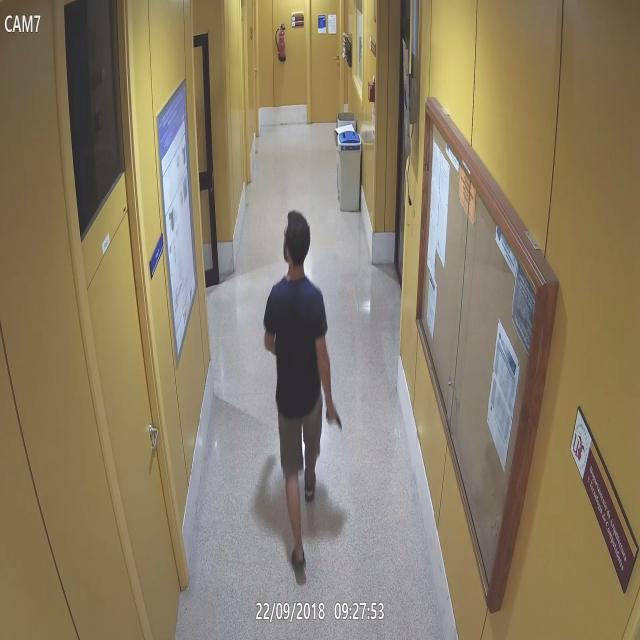pistol: (324, 400, 342, 430)
